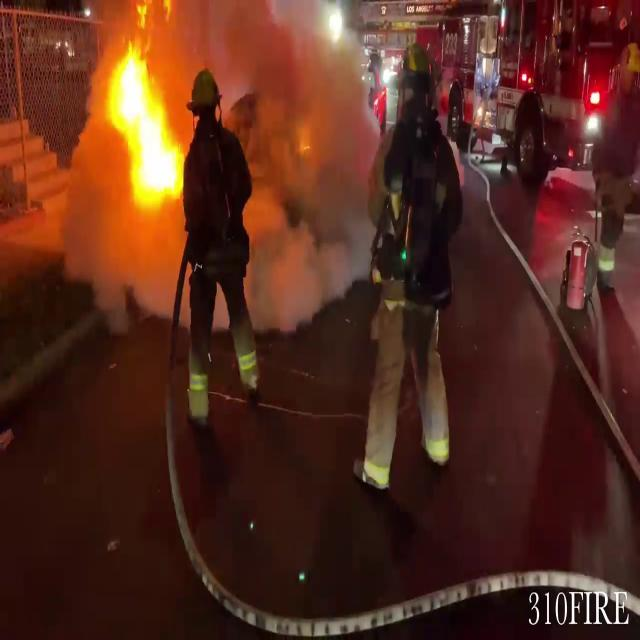Fire: (110, 32, 184, 212)
Smoke: (172, 0, 394, 326)
